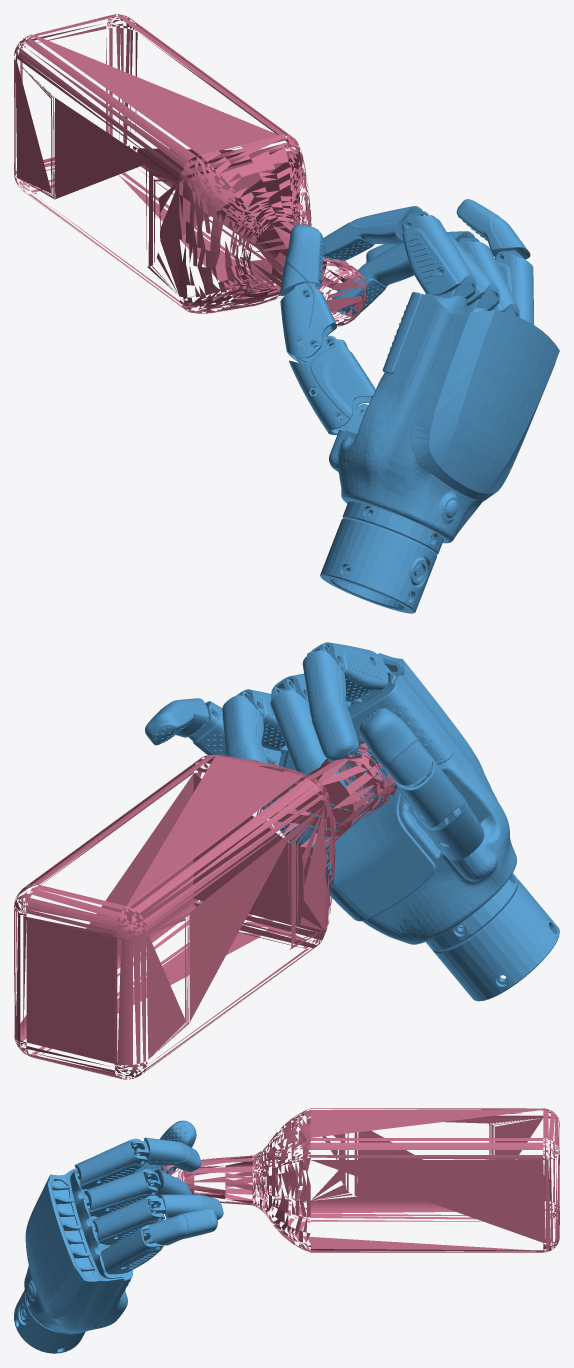
The picture shows the model from 3 angles, top to bottom: view 1: azimuth 30°, elevation 25°; view 2: azimuth 150°, elevation 25°; view 3: azimuth 270°, elevation 25°; orthographic projection. The views are drawn at different scales.
Visible parts, largest first — view 1: 4; view 2: 4; view 3: 4.
Boxes of the visible parts, x1,y1,x2,y2 form: 4: (14, 14, 559, 613); 4: (14, 642, 559, 1079); 4: (14, 1108, 559, 1353).
Bounding box in the file's own units: 0.1526 × 0.182 × 0.3706.
